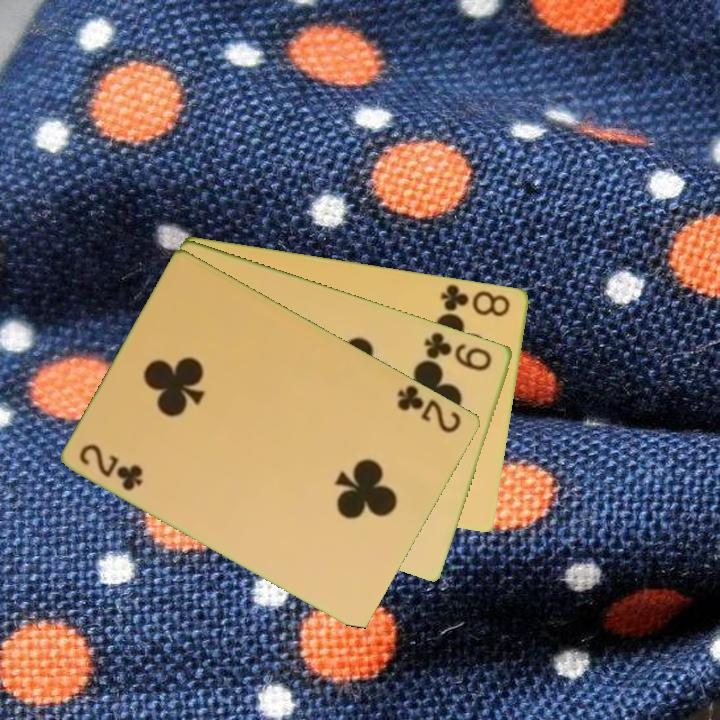2c: (394, 381, 465, 436), (76, 439, 147, 494)
8c: (437, 280, 514, 319)
9c: (421, 328, 495, 374)
